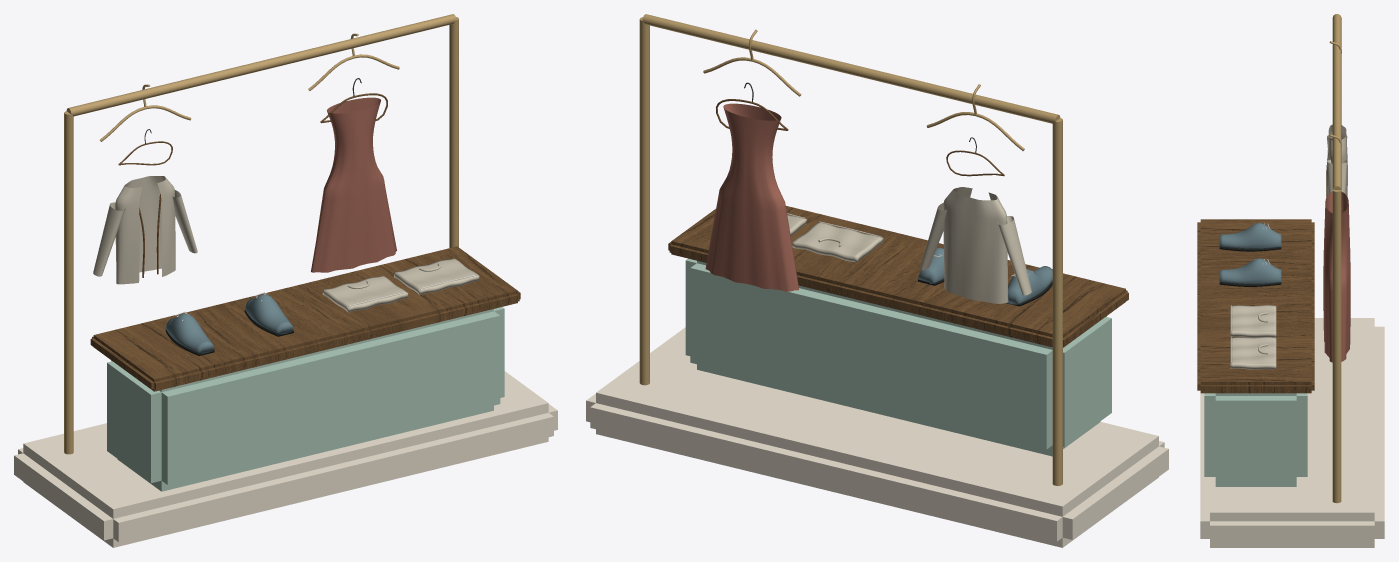
Rendered from kids_window_v292.glb.
3 views of the same model, side by side, from view 1: azimuth 30°, elevation 25°; view 2: azimuth 150°, elevation 25°; view 3: azimuth 270°, elevation 25° (orthographic). The views are drawn at different scales.
Parts seen in each view (by area): view 1: kids_window_v292_RIVORA_kids_mint, kids_window_v292_RIVORA_kids_ivory, kids_window_v292_CC0_Oak_veneer, kids_window_v292_Satin_champagne, kids_window_v292_Woven_3.001, kids_window_v292_Woven_1.001, kids_window_v292_Woven_1.002, kids_window_v292_Woven_1.003, kids_window_v292_V23_sneaker_canvas, kids_window_v292_V23_sneaker_canvas.001; view 2: kids_window_v292_RIVORA_kids_ivory, kids_window_v292_RIVORA_kids_mint, kids_window_v292_CC0_Oak_veneer, kids_window_v292_Satin_champagne, kids_window_v292_Woven_3.001, kids_window_v292_Woven_1.001, kids_window_v292_Woven_1.002, kids_window_v292_V23_sneaker_canvas; view 3: kids_window_v292_RIVORA_kids_ivory, kids_window_v292_CC0_Oak_veneer, kids_window_v292_RIVORA_kids_mint, kids_window_v292_Satin_champagne, kids_window_v292_Woven_3.001, kids_window_v292_Woven_1.003, kids_window_v292_Woven_1.002, kids_window_v292_V23_sneaker_canvas, kids_window_v292_V23_sneaker_canvas.001, kids_window_v292_Woven_1.001.
Part boxes in pixels (box(x1,y1,x2,y2)): kids_window_v292_RIVORA_kids_mint: box(107, 307, 504, 491); kids_window_v292_RIVORA_kids_ivory: box(14, 371, 557, 547); kids_window_v292_CC0_Oak_veneer: box(90, 246, 520, 391); kids_window_v292_Satin_champagne: box(64, 14, 458, 454); kids_window_v292_Woven_3.001: box(311, 97, 396, 272); kids_window_v292_Woven_1.001: box(93, 176, 197, 284); kids_window_v292_Woven_1.002: box(322, 275, 408, 312); kids_window_v292_Woven_1.003: box(394, 258, 479, 294); kids_window_v292_V23_sneaker_canvas: box(165, 313, 214, 353); kids_window_v292_V23_sneaker_canvas.001: box(245, 294, 293, 334); kids_window_v292_RIVORA_kids_ivory: box(586, 327, 1168, 547); kids_window_v292_RIVORA_kids_mint: box(685, 258, 1111, 456); kids_window_v292_CC0_Oak_veneer: box(668, 206, 1128, 347); kids_window_v292_Satin_champagne: box(639, 14, 1062, 485); kids_window_v292_Woven_3.001: box(705, 103, 798, 291); kids_window_v292_Woven_1.001: box(919, 187, 1031, 303); kids_window_v292_Woven_1.002: box(792, 222, 883, 262); kids_window_v292_V23_sneaker_canvas: box(1007, 266, 1052, 304); kids_window_v292_RIVORA_kids_ivory: box(1200, 318, 1384, 547); kids_window_v292_CC0_Oak_veneer: box(1197, 219, 1314, 393); kids_window_v292_RIVORA_kids_mint: box(1204, 393, 1307, 486); kids_window_v292_Satin_champagne: box(1329, 14, 1341, 503); kids_window_v292_Woven_3.001: box(1323, 191, 1350, 362); kids_window_v292_Woven_1.003: box(1230, 337, 1276, 369); kids_window_v292_Woven_1.002: box(1230, 305, 1276, 337); kids_window_v292_V23_sneaker_canvas: box(1219, 223, 1281, 248); kids_window_v292_V23_sneaker_canvas.001: box(1219, 258, 1281, 283); kids_window_v292_Woven_1.001: box(1327, 124, 1347, 196).
Bounding box in the file's own units: 1.72 × 1.41 × 0.67.
20 materials, 3 textured.
